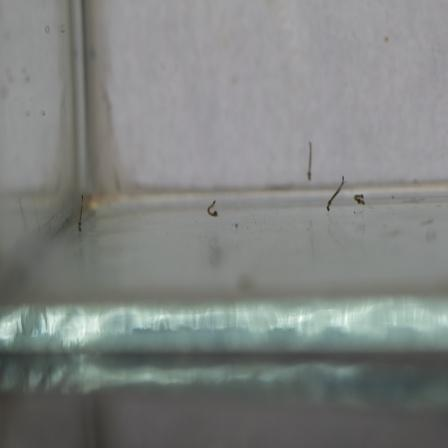Jentik-Nyamuk: (323, 171, 348, 215), (73, 190, 88, 234), (202, 196, 222, 223), (304, 138, 315, 182), (351, 188, 368, 210)
